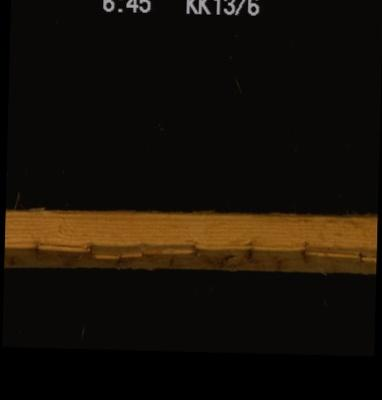wave: (4, 208, 375, 267)
